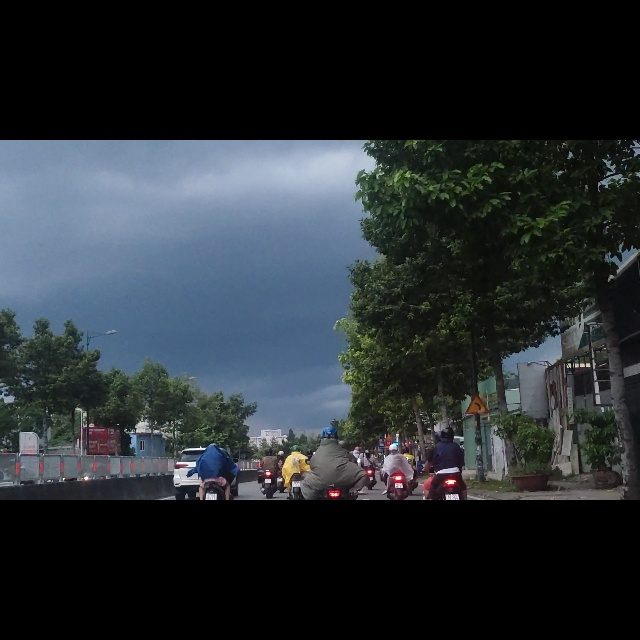bien_nguy_hiem: (463, 450, 491, 487)
